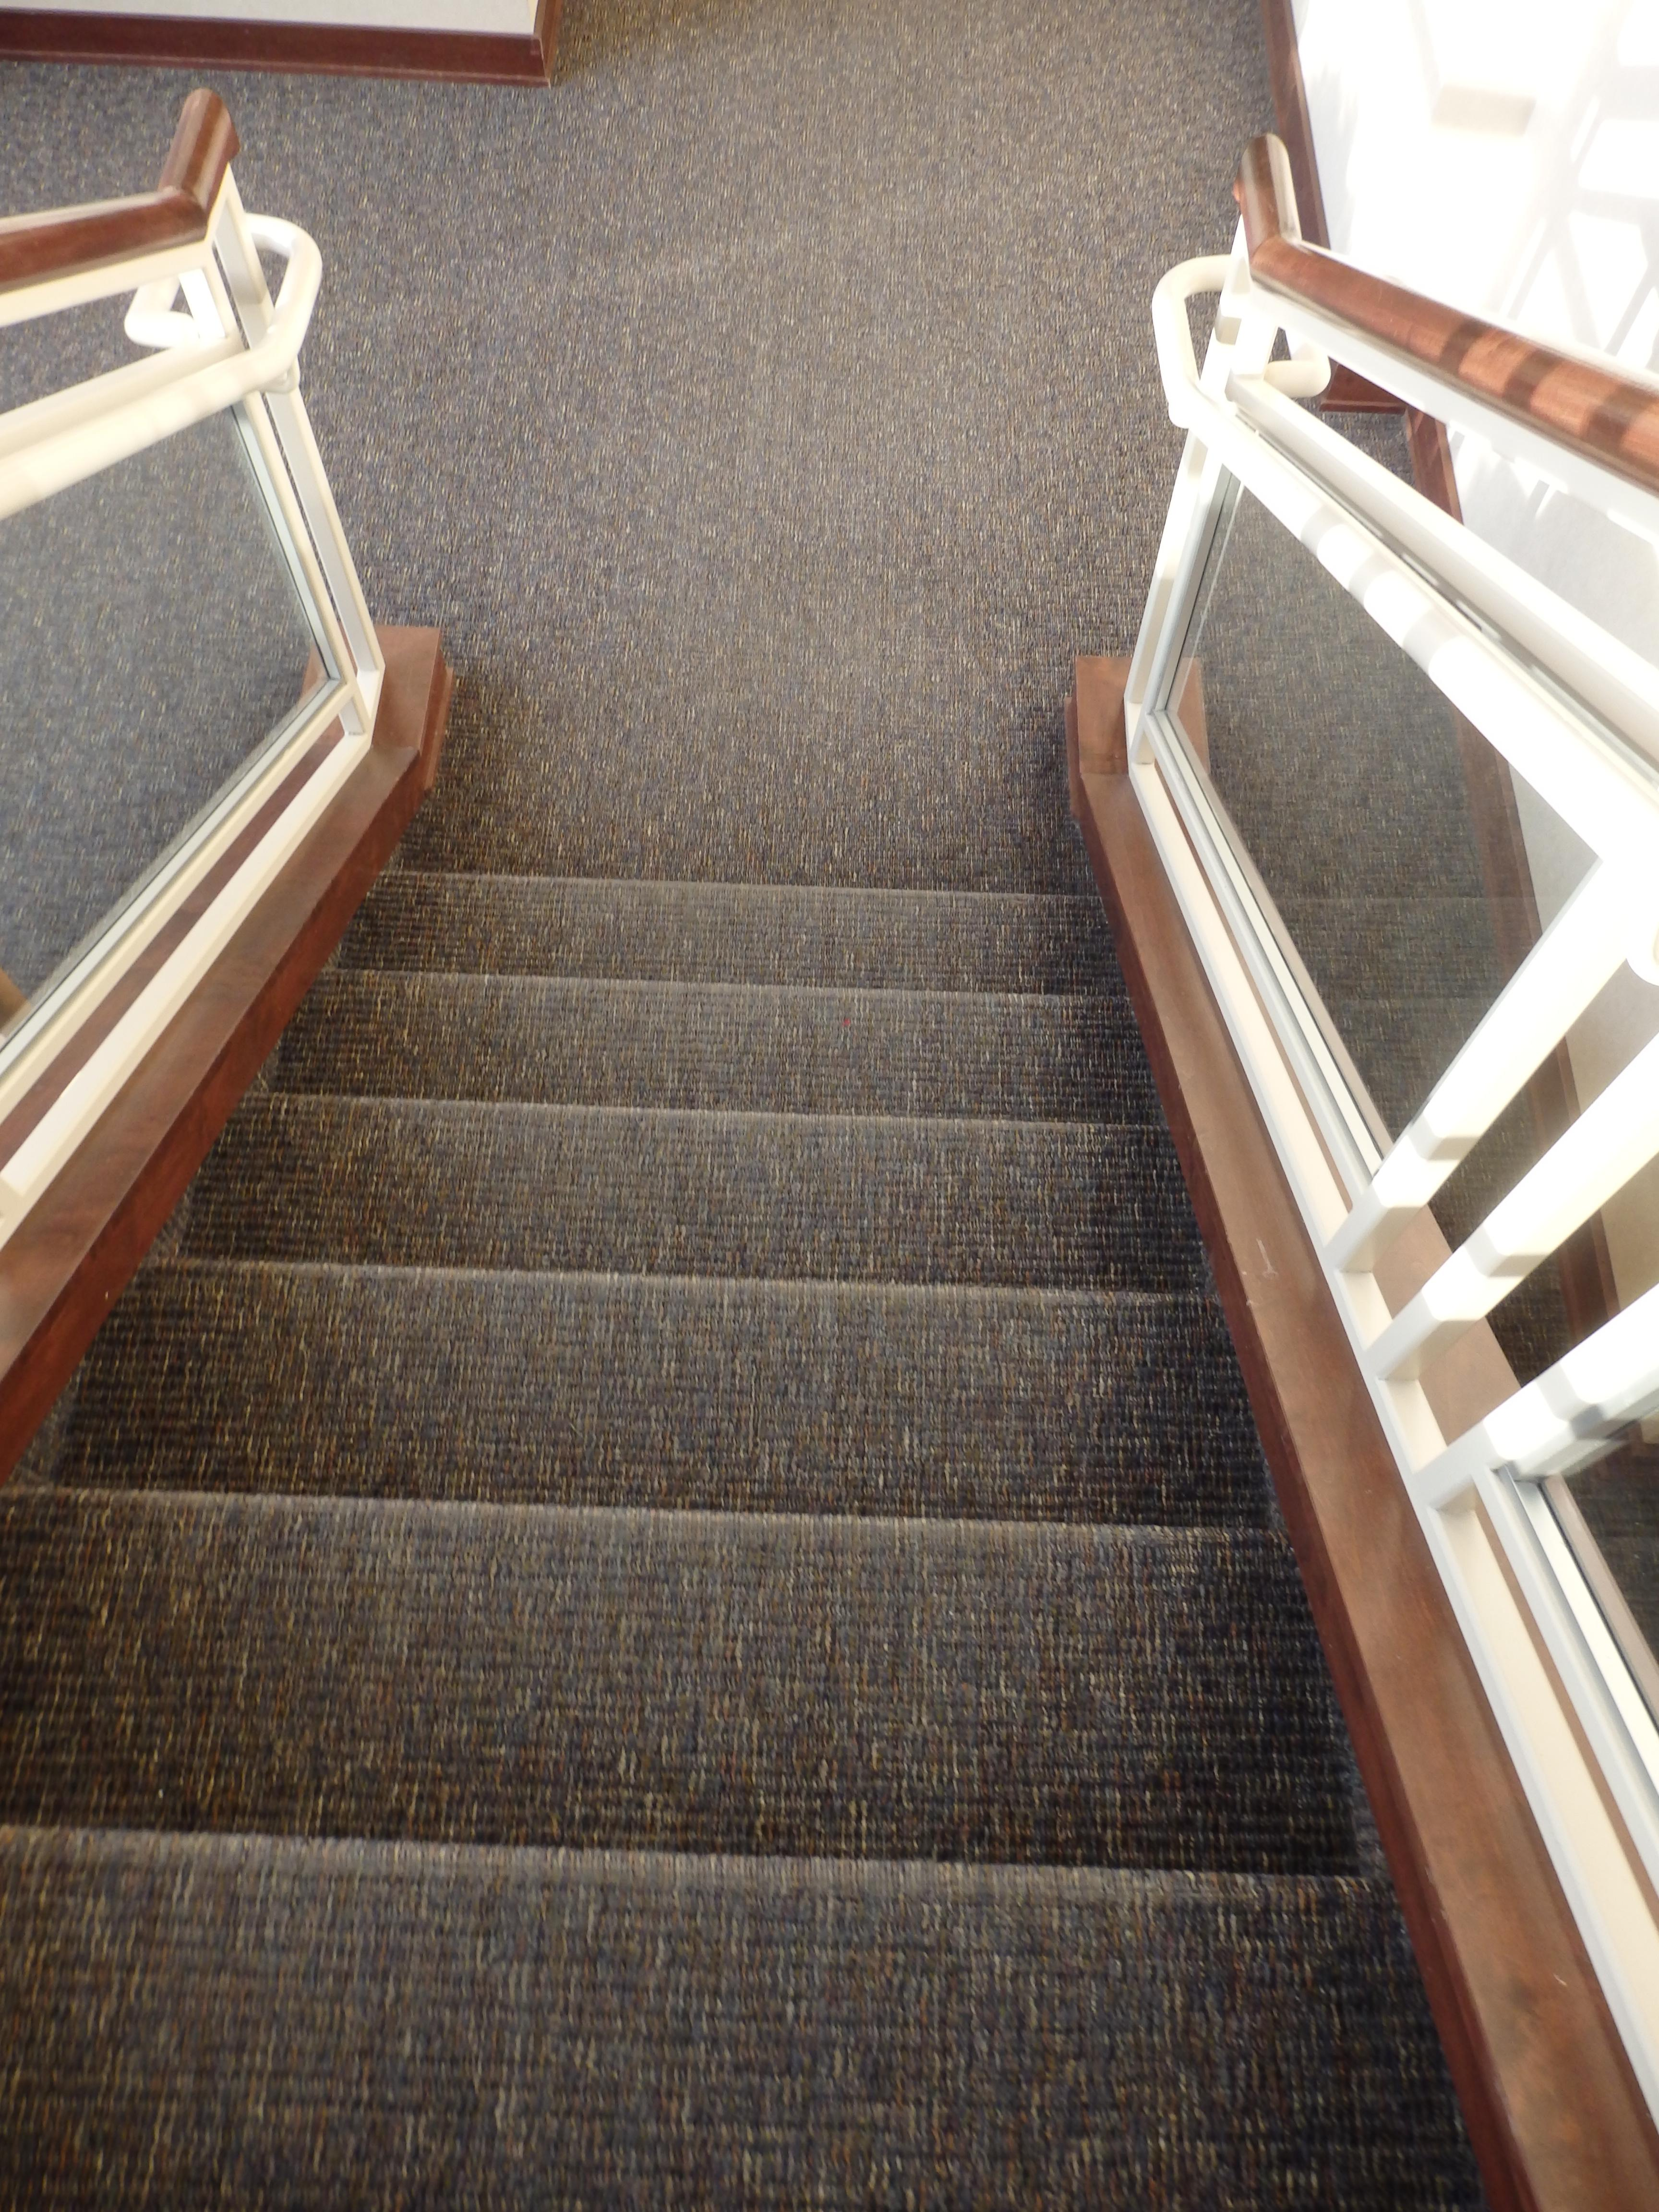stairs_down: (40, 843, 1389, 2036)
